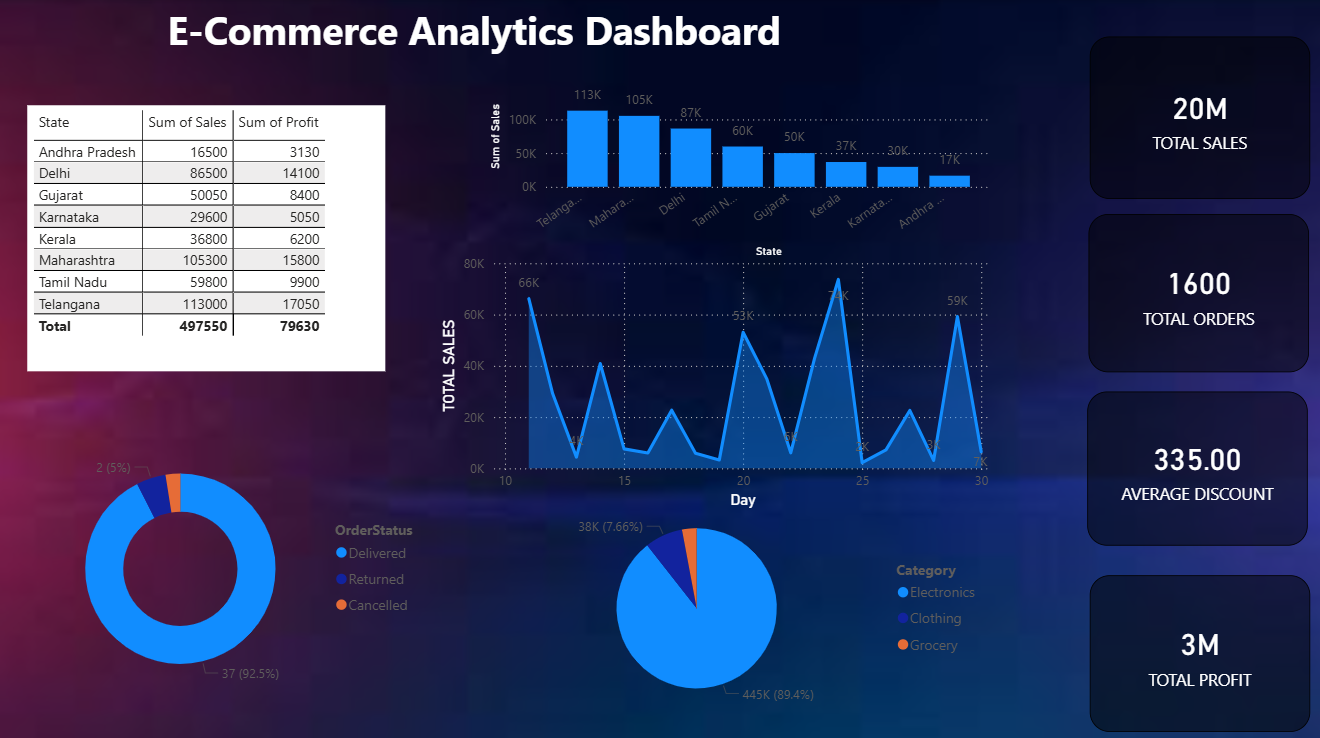

This screenshot's page, from the dashboard's own definition file:
{"tool":"powerbi","page":{"name":"Page 1","canvas":[1280,720],"ordinal":0},"visuals":[{"type":"card","fields":{"Values":["Sum(ecommerce_data.total profit)"]},"box":[1055.7,555.7,212.9,151.4],"z":0},{"type":"card","title":"TOTAL SALES","fields":{"Values":["Sum(ecommerce_data.total sales)"]},"box":[1055.2,35.7,212.7,156.4],"z":1000},{"type":"card","fields":{"Values":["Sum(ecommerce_data.total order)"]},"box":[1054.3,207.1,212.9,152.9],"z":2000},{"type":"card","fields":{"Values":["Sum(ecommerce_data.avg discount)"]},"box":[1052.9,378.6,212.9,148.6],"z":3000},{"type":"lineChart","fields":{"Category":["ecommerce_data.Date.Variation.Date Hierarchy.Day"],"Y":["Sum(ecommerce_data.Sales)"]},"box":[424.3,241.4,541.4,255.7],"z":4000},{"type":"columnChart","fields":{"Category":["ecommerce_data.State"],"Y":["Sum(ecommerce_data.Sales)"]},"box":[471.4,70,494.3,184.3],"z":5000},{"type":"pieChart","fields":{"Category":["ecommerce_data.Category"],"Y":["Sum(ecommerce_data.Sales)"]},"box":[478.6,482.9,480,211.4],"z":6000},{"type":"tableEx","fields":{"Values":["ecommerce_data.State","Sum(ecommerce_data.Sales)","Sum(ecommerce_data.Profit)"]},"box":[30,102.9,345.7,257.1],"z":7000},{"type":"donutChart","fields":{"Category":["ecommerce_data.OrderStatus"],"Y":["CountNonNull(ecommerce_data.OrderID)"]},"box":[24.3,407.1,400,287.1],"z":8000},{"type":"textbox","box":[160,0,958.6,70],"z":10000}]}

Visuals, with their boxes in screenshot pixels (x1, y1, x2, y2), scaled from the page's 1280x720 canvas onto the 1320x738 screenshot:
card - Sum(ecommerce_data.total profit): pyautogui.locateOnScreen(1089, 570, 1308, 725)
"TOTAL SALES" card: pyautogui.locateOnScreen(1088, 37, 1308, 197)
card - Sum(ecommerce_data.total order): pyautogui.locateOnScreen(1087, 212, 1307, 369)
card - Sum(ecommerce_data.avg discount): pyautogui.locateOnScreen(1086, 388, 1305, 540)
lineChart - ecommerce_data.Date.Variation.Date Hierarchy.Day x Sum(ecommerce_data.Sales): pyautogui.locateOnScreen(438, 247, 996, 510)
columnChart - ecommerce_data.State x Sum(ecommerce_data.Sales): pyautogui.locateOnScreen(486, 72, 996, 261)
pieChart - ecommerce_data.Category x Sum(ecommerce_data.Sales): pyautogui.locateOnScreen(494, 495, 989, 712)
tableEx - ecommerce_data.State x Sum(ecommerce_data.Sales): pyautogui.locateOnScreen(31, 105, 387, 369)
donutChart - ecommerce_data.OrderStatus x CountNonNull(ecommerce_data.OrderID): pyautogui.locateOnScreen(25, 417, 438, 712)
textbox: pyautogui.locateOnScreen(165, 0, 1154, 72)
